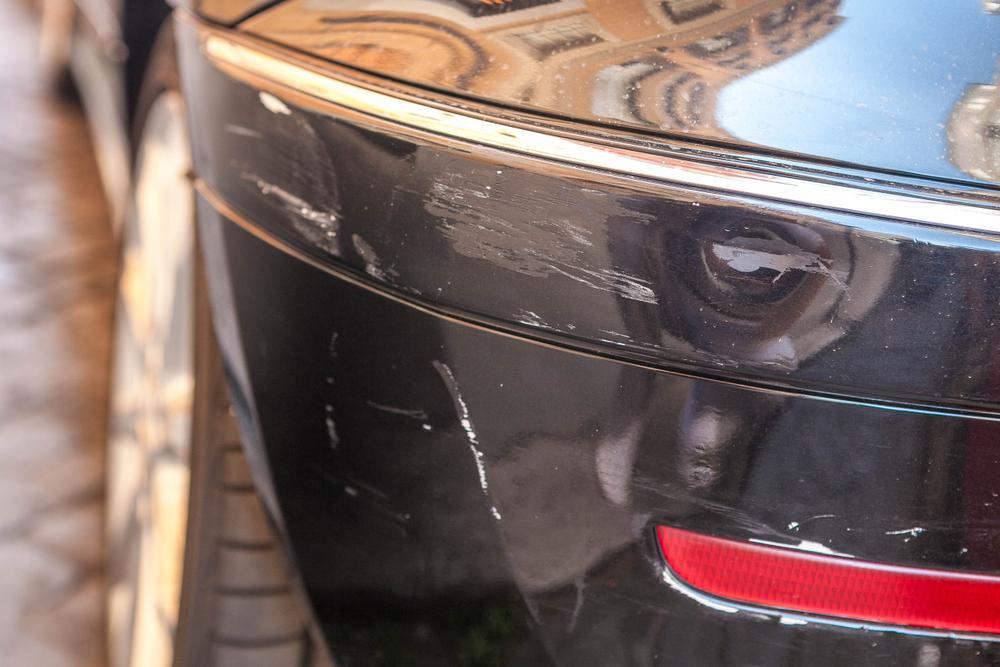scratch: (225, 91, 847, 373), (431, 361, 504, 521)
